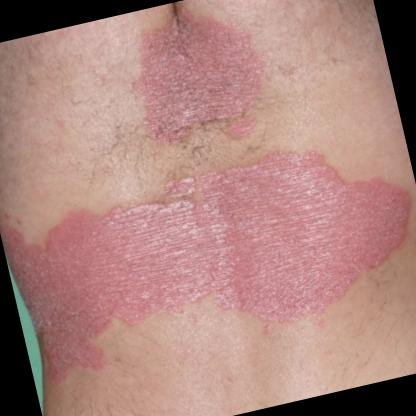Psoriasis: (0, 132, 416, 386), (117, 0, 286, 167)
